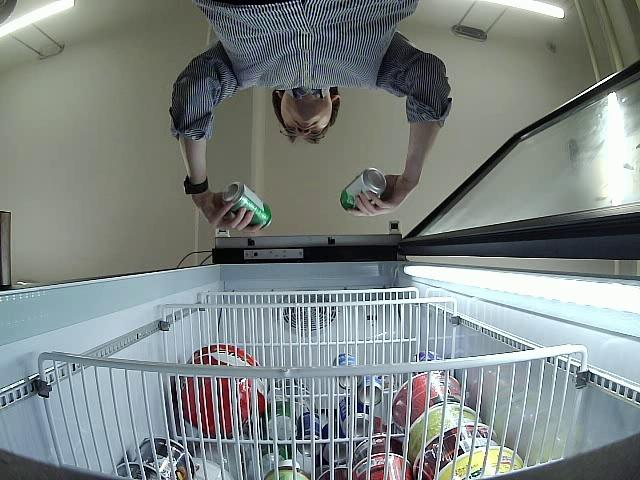00_hand: (203, 188, 268, 237), (347, 175, 414, 216)
12_chilsungCider: (220, 185, 271, 229), (339, 168, 385, 210)
